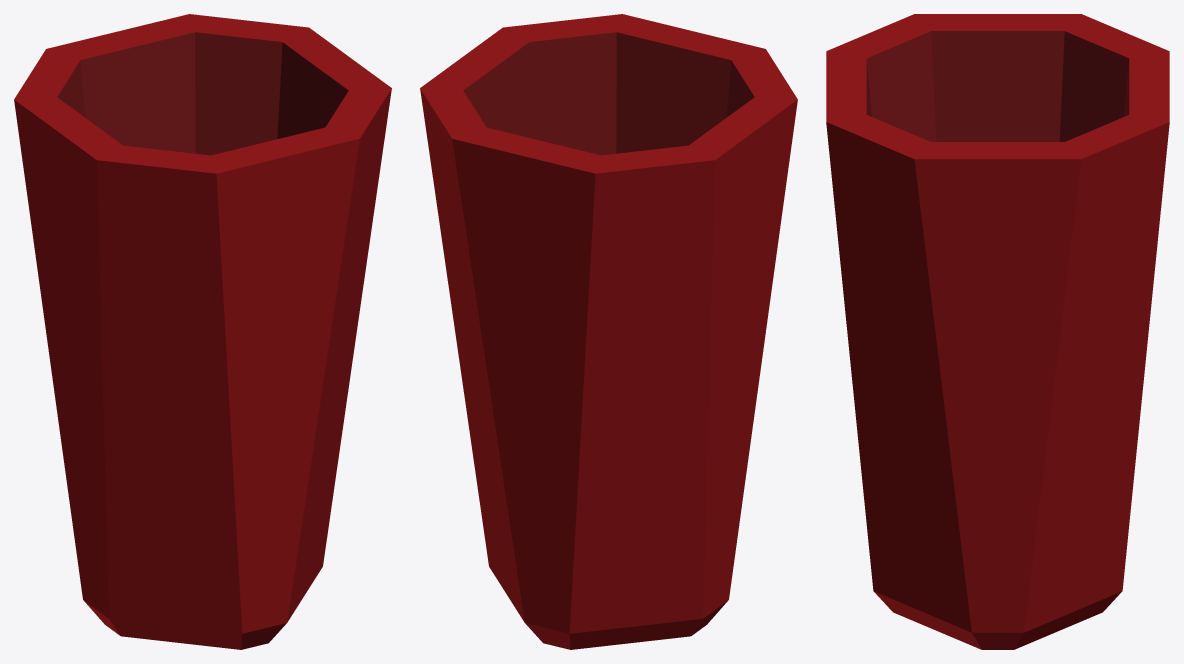
Rendered from CubiletePlayerBásico.fbx.
The picture shows the model from 3 angles, left to right: view 1: azimuth 30°, elevation 25°; view 2: azimuth 150°, elevation 25°; view 3: azimuth 270°, elevation 25°; orthographic projection.
Visible parts, largest first — view 1: cubilete; view 2: cubilete; view 3: cubilete.
Part boxes in pixels (x1,y1,x2,y2): cubilete: (14, 14, 391, 649); cubilete: (420, 14, 797, 649); cubilete: (826, 14, 1169, 649).
Bounding box in the file's own units: 42 × 70 × 42.
